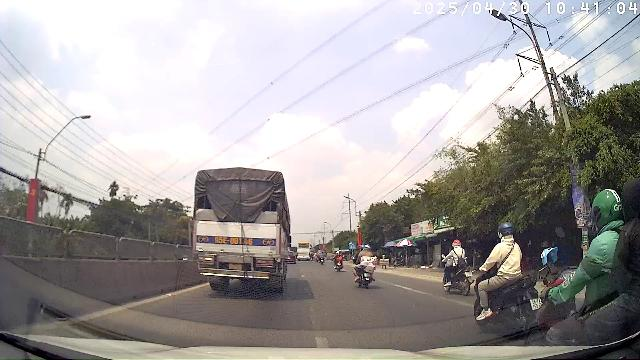423a-duong-nguoi-di-bo-sang-ngang-1: (350, 243, 356, 249)
